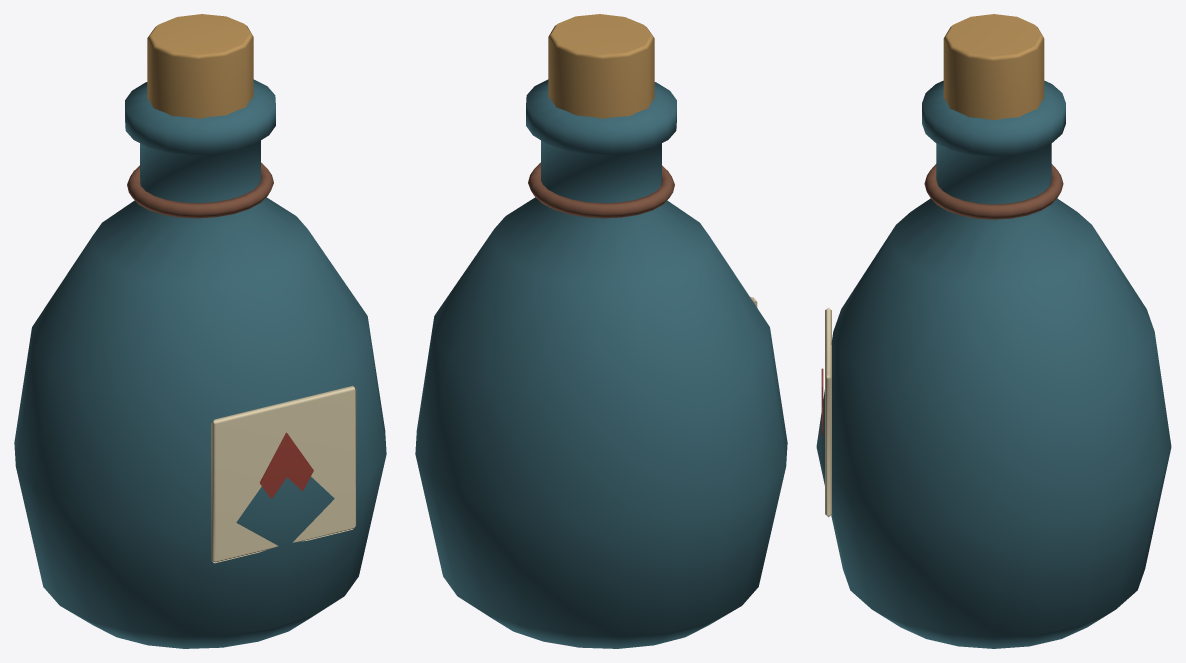
Rendered from P023_potion_bottle_rebuilt.glb.
3 renders of one model, left to right at view 1: azimuth 30°, elevation 25°; view 2: azimuth 150°, elevation 25°; view 3: azimuth 270°, elevation 25°, orthographic.
Parts seen in each view (by area): view 1: glass, paper, edge, leather, red; view 2: glass, edge, leather; view 3: glass, edge, leather, paper.
Boxes of the visible parts, x1=… form: glass: x1=14, y1=79, x2=386, y2=648; paper: x1=211, y1=386, x2=356, y2=563; edge: x1=147, y1=14, x2=253, y2=118; leather: x1=127, y1=162, x2=273, y2=218; red: x1=259, y1=432, x2=313, y2=498; glass: x1=415, y1=79, x2=787, y2=648; edge: x1=548, y1=14, x2=654, y2=118; leather: x1=528, y1=162, x2=674, y2=218; glass: x1=816, y1=80, x2=1171, y2=648; edge: x1=943, y1=14, x2=1044, y2=119; leather: x1=924, y1=164, x2=1063, y2=219; paper: x1=825, y1=307, x2=831, y2=517.
Size of the model in its own units: 0.156 by 0.255 by 0.146.
